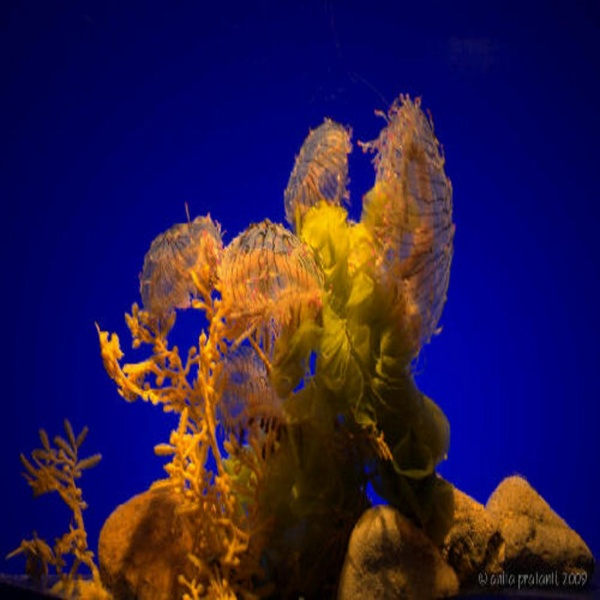Jellyfish: (356, 86, 457, 362)
